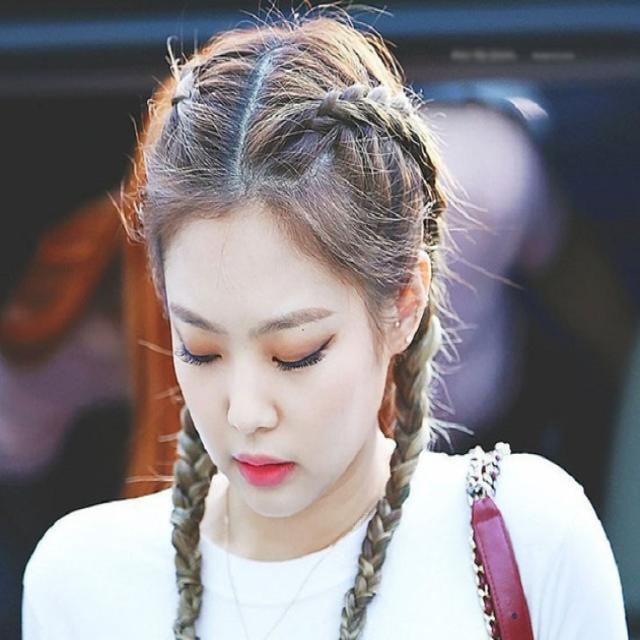Nonhelmet: (113, 4, 484, 519)
